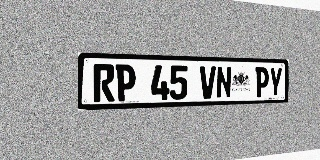4: (151, 65, 169, 100)
5: (170, 65, 188, 100)
N: (216, 66, 232, 98)
P: (115, 64, 136, 101), (255, 67, 269, 97)
R: (93, 64, 115, 102)
V: (199, 66, 216, 99)
Y: (269, 67, 282, 97)
